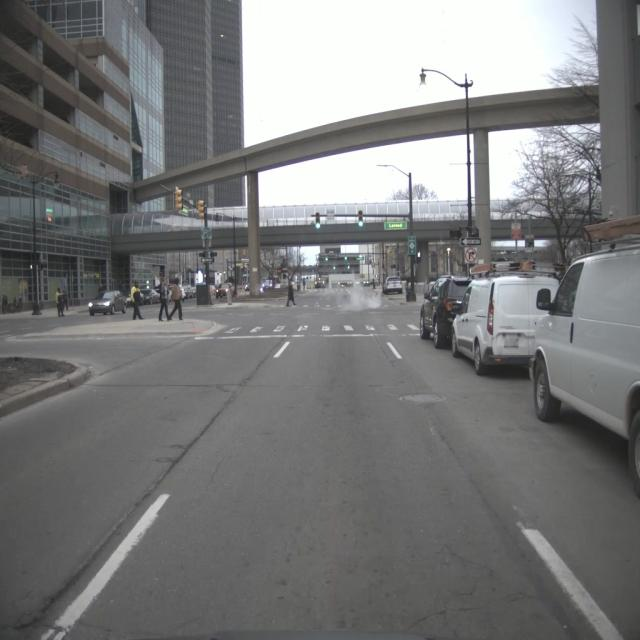humans: (130, 279, 144, 322), (172, 277, 184, 322), (160, 276, 170, 324), (56, 286, 63, 318), (287, 280, 295, 308), (302, 277, 306, 292)
